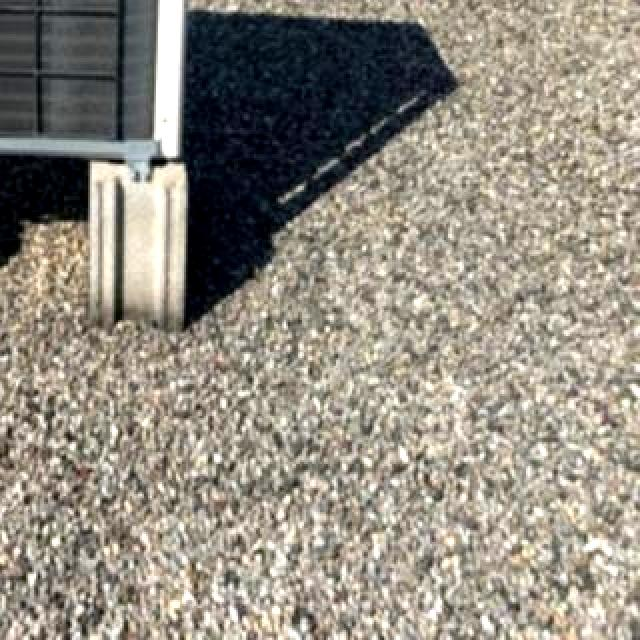SPLIT-SYSTEM: (0, 0, 202, 172)
